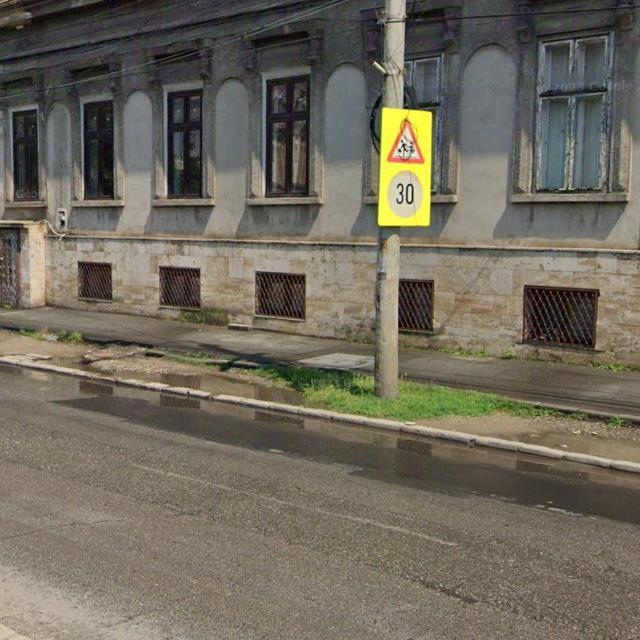forb_speed_over_30: (388, 170, 423, 218)
